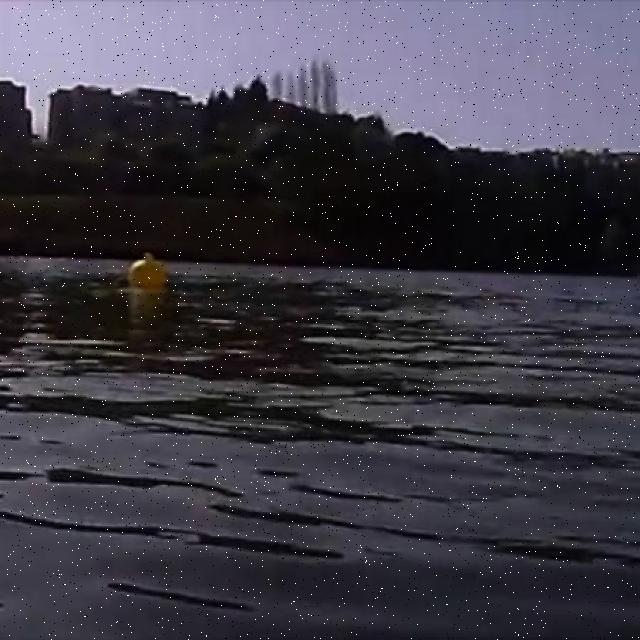buoy: (128, 256, 168, 289)
